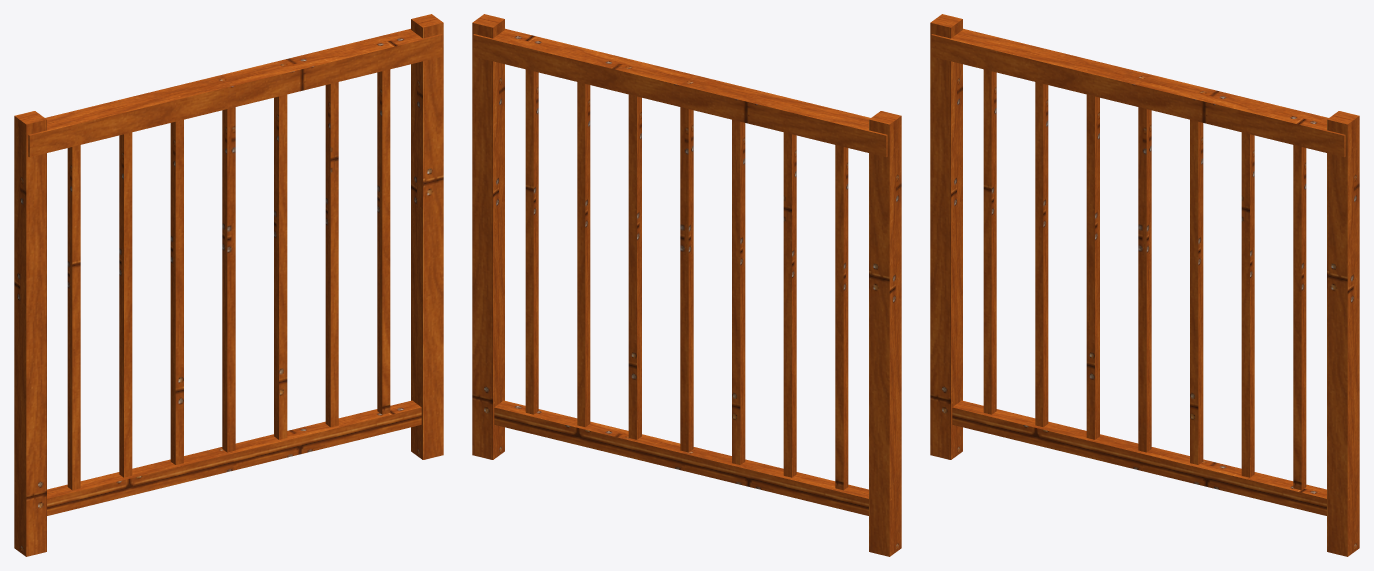
File: Railing.fbx
3 views of the same model, side by side, from view 1: azimuth 30°, elevation 25°; view 2: azimuth 150°, elevation 25°; view 3: azimuth 330°, elevation 25° (orthographic).
Parts seen in each view (by area): view 1: Railing; view 2: Railing; view 3: Railing.
Boxes of the visible parts, bbox=[...] form: Railing: bbox=[14, 14, 443, 556]; Railing: bbox=[472, 14, 901, 556]; Railing: bbox=[930, 14, 1359, 556].
Bounding box in the file's own units: 1.01 × 1 × 0.06.
